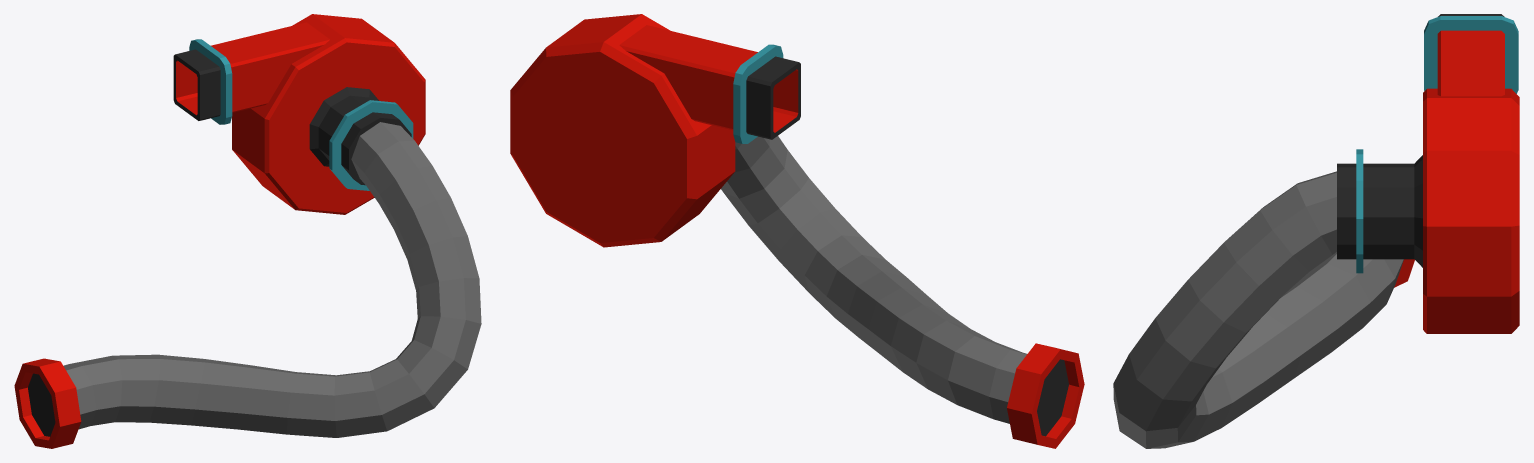
Rendered from Ventilator_02.fbx.
3 renders of one model, left to right at view 1: azimuth 30°, elevation 25°; view 2: azimuth 150°, elevation 25°; view 3: azimuth 270°, elevation 25°, orthographic. The views are drawn at different scales.
Parts seen in each view (by area): view 1: Ventilator_02_duct, Ventilator_02; view 2: Ventilator_02, Ventilator_02_duct; view 3: Ventilator_02_duct, Ventilator_02.
Part boxes in pixels (x1,y1,x2,y2): Ventilator_02_duct: [14, 122, 481, 448]; Ventilator_02: [173, 14, 425, 214]; Ventilator_02: [510, 14, 800, 247]; Ventilator_02_duct: [721, 136, 1084, 448]; Ventilator_02_duct: [1113, 171, 1414, 448]; Ventilator_02: [1337, 14, 1519, 333].
Bounding box in the file's own units: 116 × 84.53 × 77.04.
